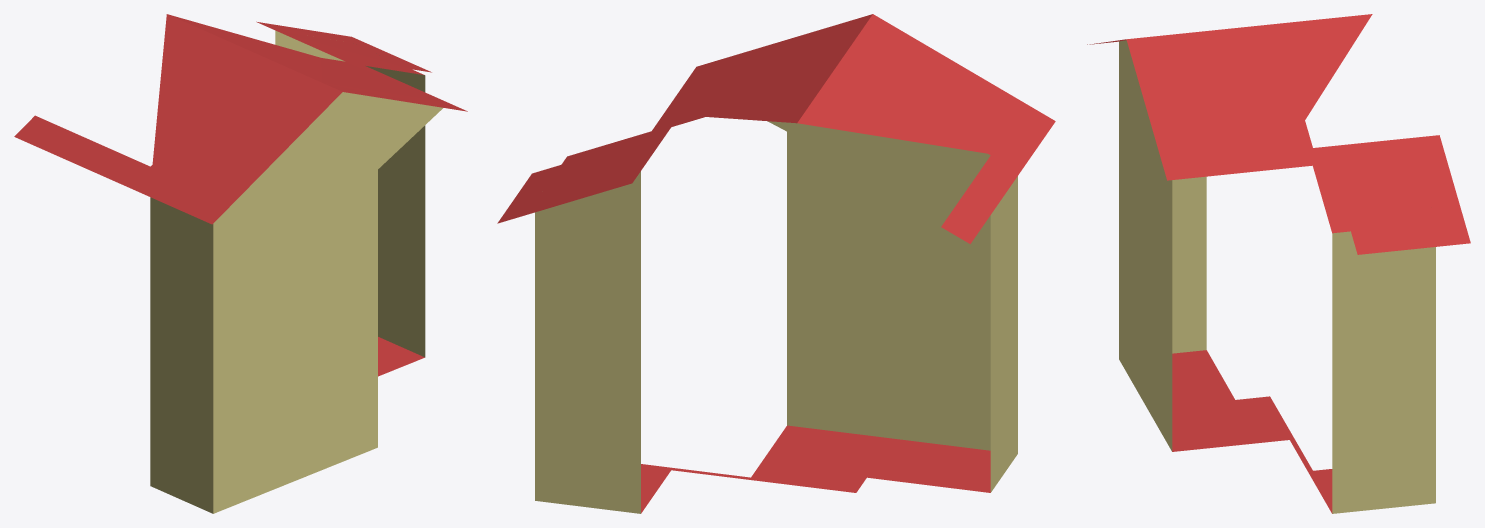
The picture shows the model from 3 angles, left to right: view 1: azimuth 30°, elevation 25°; view 2: azimuth 150°, elevation 25°; view 3: azimuth 270°, elevation 25°; orthographic projection. The views are drawn at different scales.
Size of the model in its own units: 12.45 by 10.07 by 11.04.
